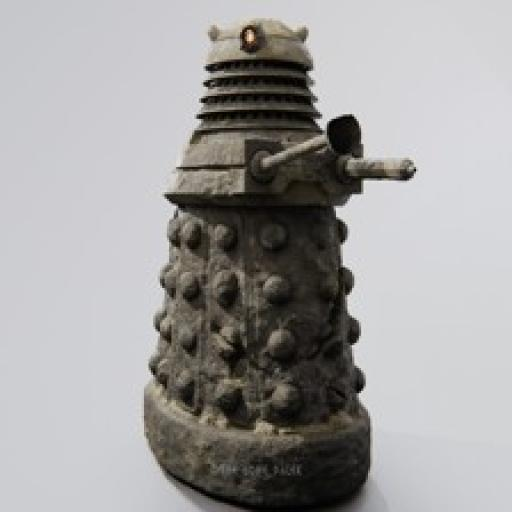dalek: (119, 7, 418, 512)
